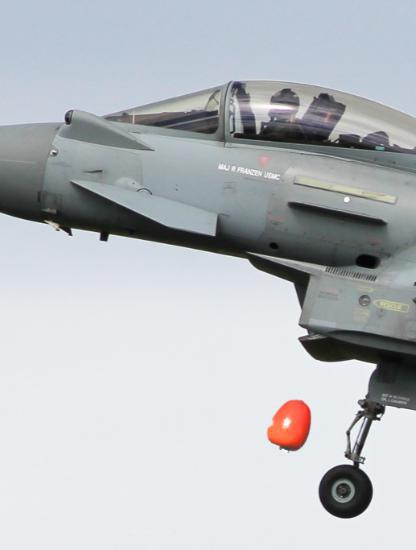Kaki: (264, 398, 318, 452)
